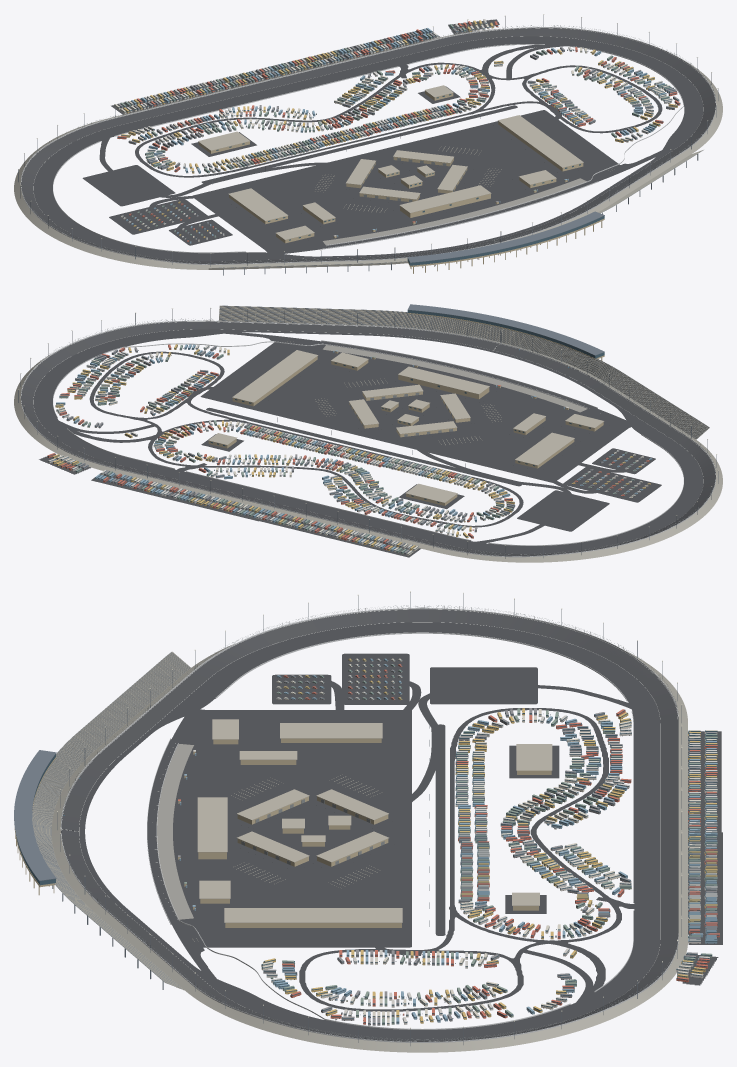
File: LasVegasSpeedway.fbx
3 views of the same model, one above another, from view 1: azimuth 30°, elevation 25°; view 2: azimuth 150°, elevation 25°; view 3: azimuth 270°, elevation 25° (orthographic). The views are drawn at different scales.
Visible parts, largest first — view 1: Infield competition paddock, Apron asphalt, Racing surface, Infield paved access network, Las Vegas exterior perimeter concourse, Infield car and recovery lots, Outside continuous concrete wall, Pit road asphalt, Las Vegas grandstand press box curved roof, Las Vegas infield building 05 roof, Exterior RV campground pads, Las Vegas concrete pit work (+16 smaller); view 2: Infield competition paddock, Apron asphalt, Racing surface, Las Vegas exterior perimeter concourse, Infield paved access network, Infield car and recovery lots, Outside continuous concrete wall, Exterior RV campground pads, Pit road asphalt, Las Vegas grandstand press box curved roof, Las Vegas infield building 05 roof, Las Vegas concrete pit work (+37 smaller); view 3: Infield competition paddock, Apron asphalt, Racing surface, Las Vegas exterior perimeter concourse, Infield car and recovery lots, Infield paved access network, Exterior RV campground pads, Pit road asphalt, Las Vegas infield building 05 roof, Las Vegas grandstand press box curved roof, Outside continuous concrete wall, Las Vegas concrete pit work (+15 smaller).
Boxes of the visible parts, left/top/right/bottom form: Infield competition paddock: left=193, top=110, right=620, bottom=252; Apron asphalt: left=33, top=36, right=703, bottom=261; Racing surface: left=21, top=28, right=715, bottom=264; Infield paved access network: left=101, top=42, right=662, bottom=183; Las Vegas exterior perimeter concourse: left=14, top=28, right=722, bottom=269; Infield car and recovery lots: left=82, top=165, right=232, bottom=245; Outside continuous concrete wall: left=20, top=27, right=716, bottom=264; Pit road asphalt: left=230, top=152, right=662, bottom=258; Las Vegas grandstand press box curved roof: left=407, top=211, right=604, bottom=262; Las Vegas infield building 05 roof: left=498, top=115, right=583, bottom=167; Exterior RV campground pads: left=111, top=19, right=499, bottom=114; Las Vegas concrete pit work: left=323, top=179, right=586, bottom=244; Infield competition paddock: left=200, top=341, right=631, bottom=482; Apron asphalt: left=33, top=329, right=703, bottom=554; Racing surface: left=21, top=321, right=715, bottom=556; Las Vegas exterior perimeter concourse: left=14, top=320, right=722, bottom=562; Infield paved access network: left=33, top=351, right=523, bottom=545; Infield car and recovery lots: left=517, top=448, right=661, bottom=531; Outside continuous concrete wall: left=20, top=320, right=716, bottom=557; Exterior RV campground pads: left=39, top=456, right=420, bottom=557; Pit road asphalt: left=230, top=331, right=662, bottom=438; Las Vegas grandstand press box curved roof: left=407, top=304, right=604, bottom=355; Las Vegas infield building 05 roof: left=232, top=350, right=318, bottom=402; Las Vegas concrete pit work: left=323, top=345, right=587, bottom=411; Infield competition paddock: left=173, top=709, right=411, bottom=947; Apron asphalt: left=79, top=622, right=660, bottom=1041; Racing surface: left=61, top=609, right=678, bottom=1041; Las Vegas exterior perimeter concourse: left=51, top=644, right=687, bottom=1052; Infield car and recovery lots: left=272, top=653, right=537, bottom=704; Infield paved access network: left=299, top=699, right=660, bottom=1029; Exterior RV campground pads: left=682, top=731, right=722, bottom=985; Pit road asphalt: left=148, top=686, right=214, bottom=976; Las Vegas infield building 05 roof: left=224, top=908, right=402, bottom=922; Las Vegas grandstand press box curved roof: left=14, top=750, right=56, bottom=881; Outside continuous concrete wall: left=60, top=608, right=678, bottom=1042; Las Vegas concrete pit work: left=156, top=744, right=190, bottom=919.
Size of what is drawn, in the model's own units: 96082 by 2256 by 65158.
